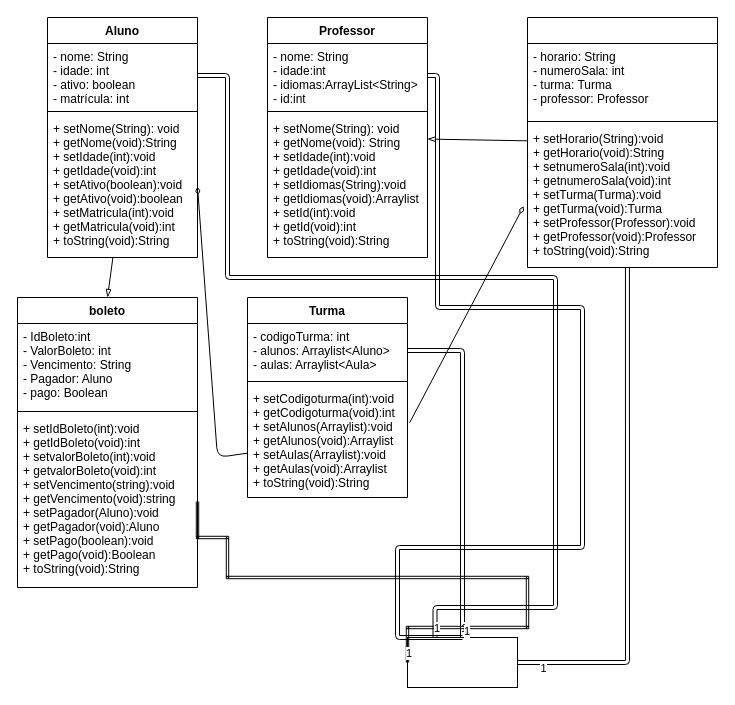
The diagram is 735 pixels wide and 705 high, and some of its shapes have lost their labels. The shapes that lost their labels are listed below. From the top down, each one's box as (x1, y1, x2, y2) in pixels, then its label:
(526, 16, 718, 268): Aula
(406, 636, 518, 688): escola de idiomas
